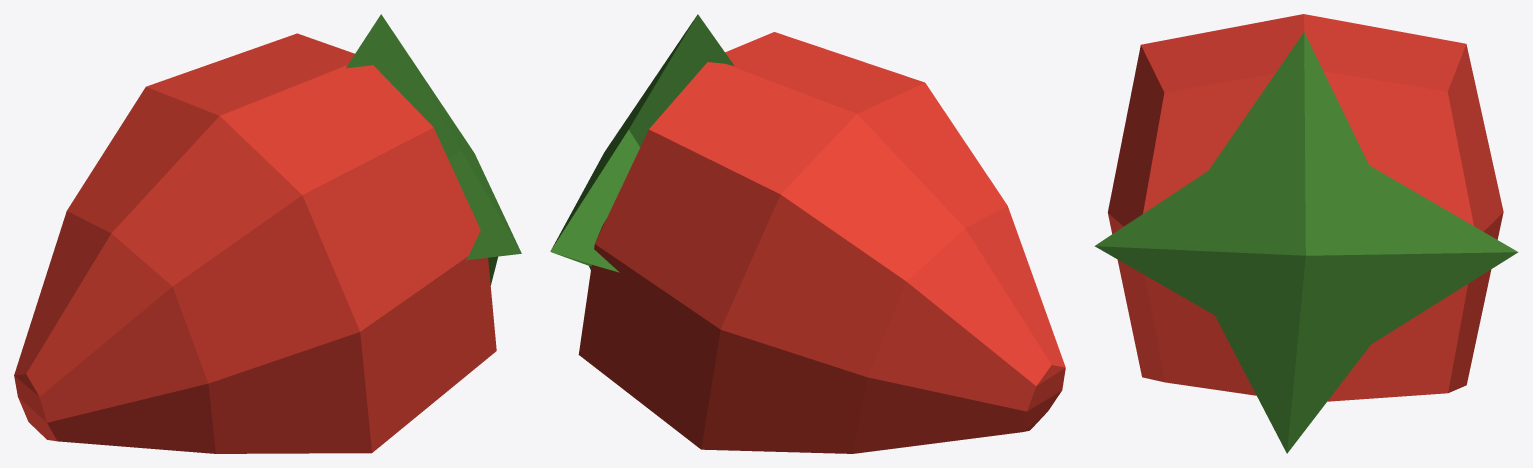
File: strawberry.fbx
3 renders of one model, left to right at view 1: azimuth 30°, elevation 25°; view 2: azimuth 150°, elevation 25°; view 3: azimuth 270°, elevation 25°, orthographic. The views are drawn at different scales.
Visible parts, largest first — view 1: strawberry; view 2: strawberry; view 3: strawberry.
Boxes of the visible parts, x1,y1,x2,y2 form: strawberry: (14,14,521,453); strawberry: (550,14,1065,453); strawberry: (1094,14,1518,453).
Bounding box in the file's own units: 4.08 × 3.28 × 3.09.
Materials: 1 (1 with a texture image).
